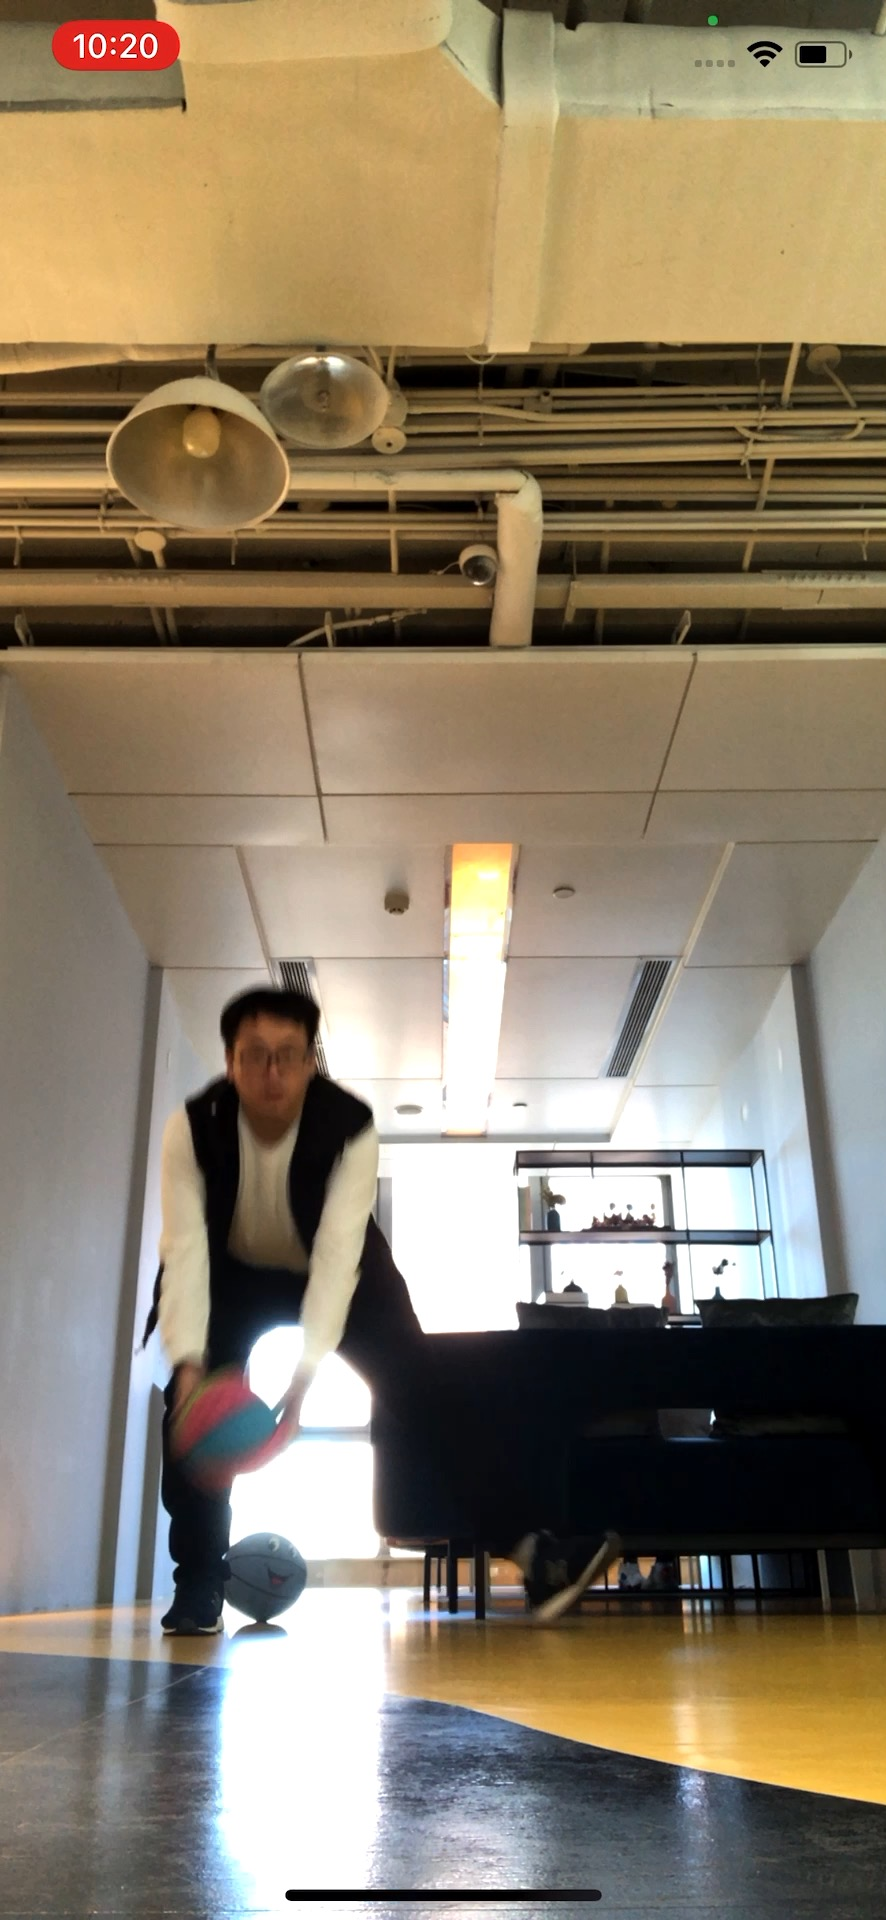ball: (174, 1374, 280, 1472), (221, 1531, 310, 1621)
